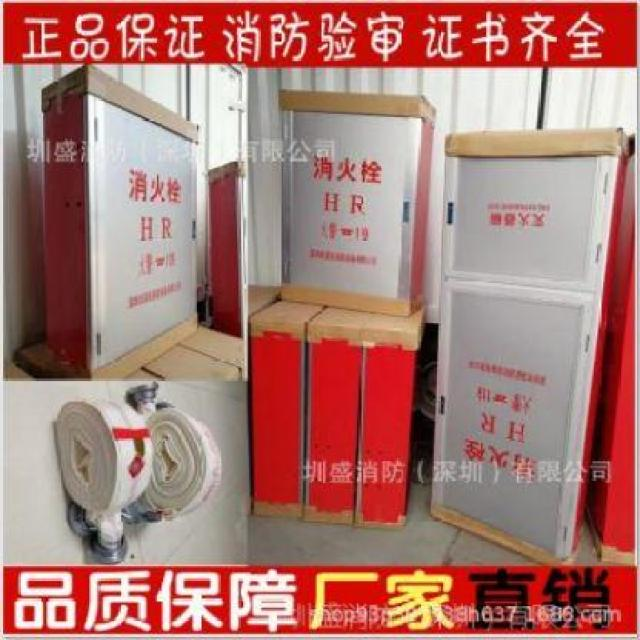firehydrant: (428, 126, 634, 568), (39, 57, 202, 379), (275, 85, 443, 322), (246, 294, 329, 526), (354, 306, 424, 537), (306, 298, 362, 530), (203, 152, 250, 338)
